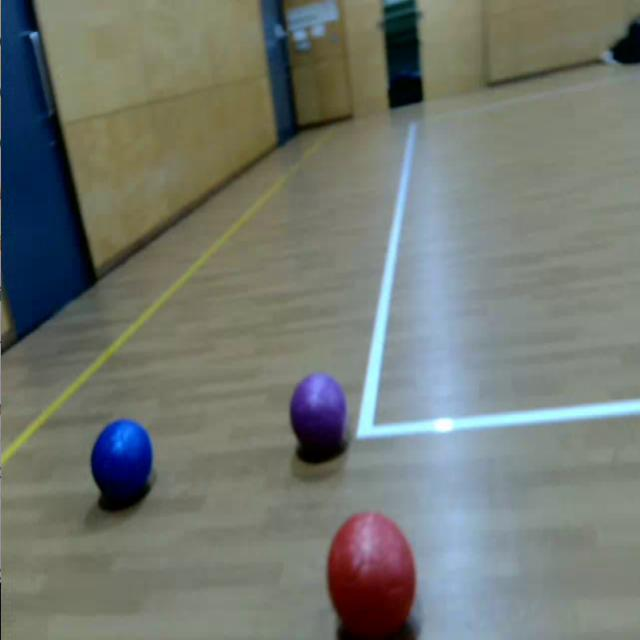blue_ball: (90, 419, 154, 502)
purple_ball: (292, 374, 345, 450)
red_ball: (327, 512, 417, 638)
